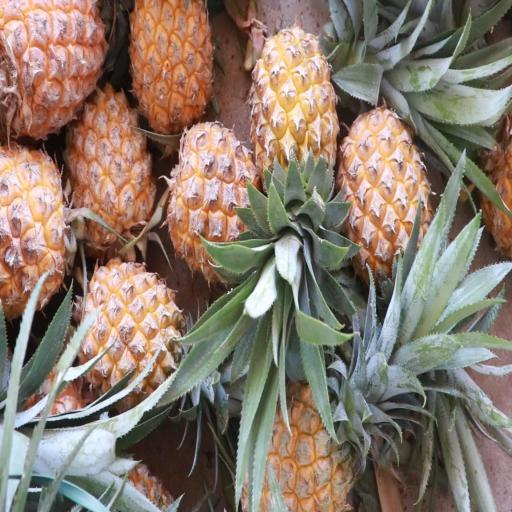Pineapple - v8 v1: (236, 359, 386, 512), (335, 96, 438, 291), (246, 21, 339, 217), (73, 250, 188, 408), (163, 119, 265, 288), (60, 77, 156, 254), (0, 1, 112, 151), (0, 135, 72, 318), (126, 2, 216, 148)
